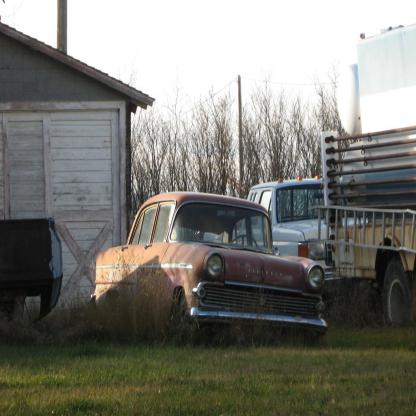Car: (88, 187, 330, 343), (232, 174, 370, 284)
Truck: (316, 115, 413, 323)
